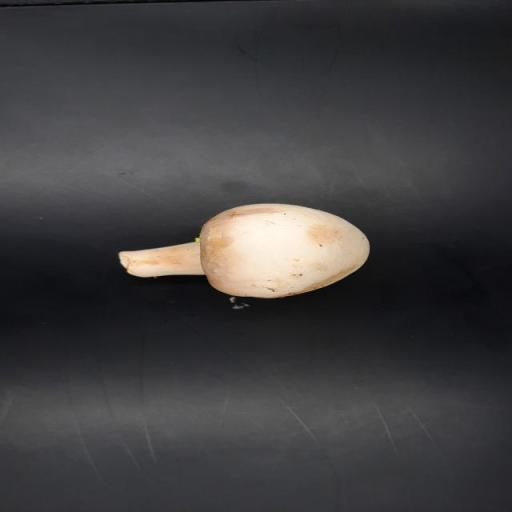Button Mushroom: (119, 201, 372, 303)
